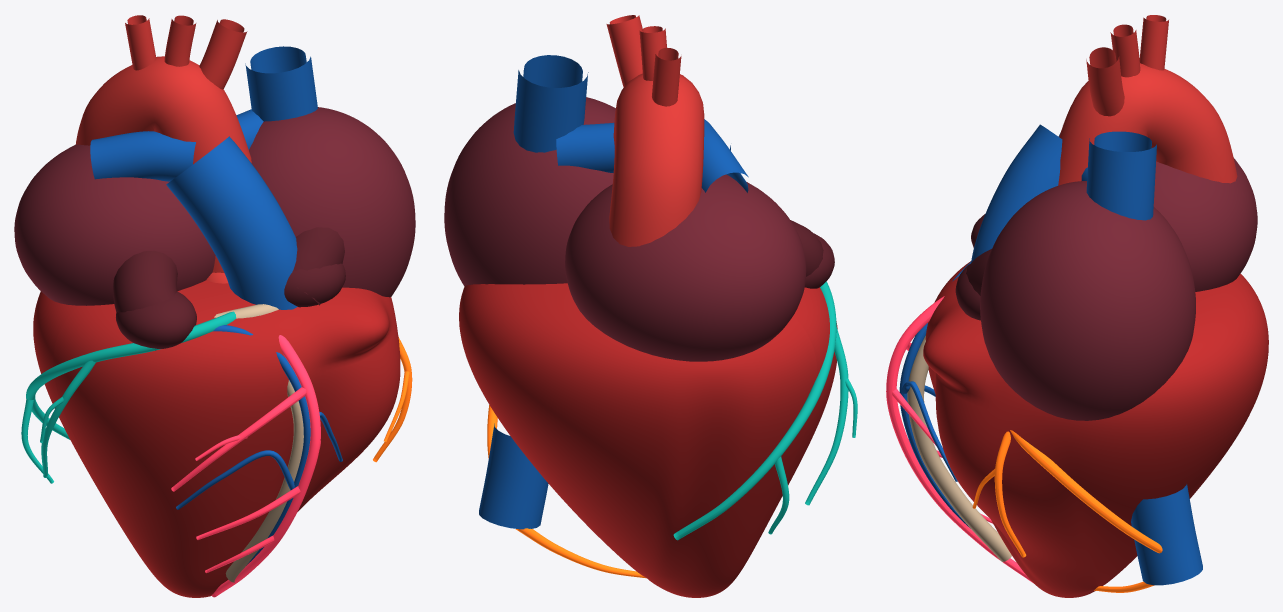
File: heart.glb
3 renders of one model, left to right at view 1: azimuth 30°, elevation 25°; view 2: azimuth 150°, elevation 25°; view 3: azimuth 270°, elevation 25°, orthographic. The views are drawn at different scales.
Parts seen in each view (by area): view 1: Myocardium, LeftAtrium, RightAtrium, PulmonaryTrunk, Aorta, LAD, SuperiorVenaCava, LeftPulmonaryArtery, LCX, LeftAuricle, LeftAuricle_Lobe, EpicardialFat (+9 smaller); view 2: Myocardium, LeftAtrium, RightAtrium, Aorta, SuperiorVenaCava, LCX, InferiorVenaCava, RightPulmonaryArtery, BrachiocephalicArtery, LeftPulmonaryArtery, LeftSubclavian, RCA (+3 smaller); view 3: Myocardium, RightAtrium, Aorta, LeftAtrium, SuperiorVenaCava, InferiorVenaCava, PulmonaryTrunk, EpicardialFat, LAD, RCA, BrachiocephalicArtery, LeftSubclavian (+5 smaller).
Part boxes in pixels (x1,y1,x2,y2): Myocardium: [33, 280, 400, 597]; LeftAtrium: [14, 144, 215, 305]; RightAtrium: [249, 107, 415, 297]; PulmonaryTrunk: [166, 136, 297, 309]; Aorta: [75, 56, 251, 272]; LAD: [171, 335, 320, 597]; SuperiorVenaCava: [245, 46, 317, 121]; LeftPulmonaryArtery: [90, 131, 195, 181]; LCX: [21, 311, 236, 483]; LeftAuricle: [113, 250, 177, 350]; LeftAuricle_Lobe: [116, 291, 196, 348]; EpicardialFat: [214, 304, 303, 582]; Myocardium: [459, 283, 837, 597]; LeftAtrium: [565, 174, 806, 361]; RightAtrium: [444, 97, 615, 286]; Aorta: [609, 73, 704, 246]; SuperiorVenaCava: [513, 55, 588, 152]; LCX: [673, 281, 848, 540]; InferiorVenaCava: [479, 423, 548, 529]; RightPulmonaryArtery: [556, 122, 614, 172]; BrachiocephalicArtery: [606, 15, 642, 87]; LeftPulmonaryArtery: [701, 119, 748, 192]; LeftSubclavian: [652, 47, 681, 106]; RCA: [487, 405, 646, 578]; Myocardium: [923, 261, 1268, 597]; RightAtrium: [980, 181, 1195, 420]; Aorta: [1058, 63, 1237, 185]; LeftAtrium: [1153, 158, 1257, 291]; SuperiorVenaCava: [1086, 131, 1156, 220]; InferiorVenaCava: [1131, 484, 1202, 585]; PulmonaryTrunk: [971, 124, 1062, 262]; EpicardialFat: [907, 335, 1011, 561]; LAD: [886, 296, 1033, 583]; RCA: [994, 430, 1162, 592]; BrachiocephalicArtery: [1086, 47, 1124, 116]; LeftSubclavian: [1139, 15, 1168, 70].
Bounding box in the file's own units: 2.13 × 3.03 × 1.85.
